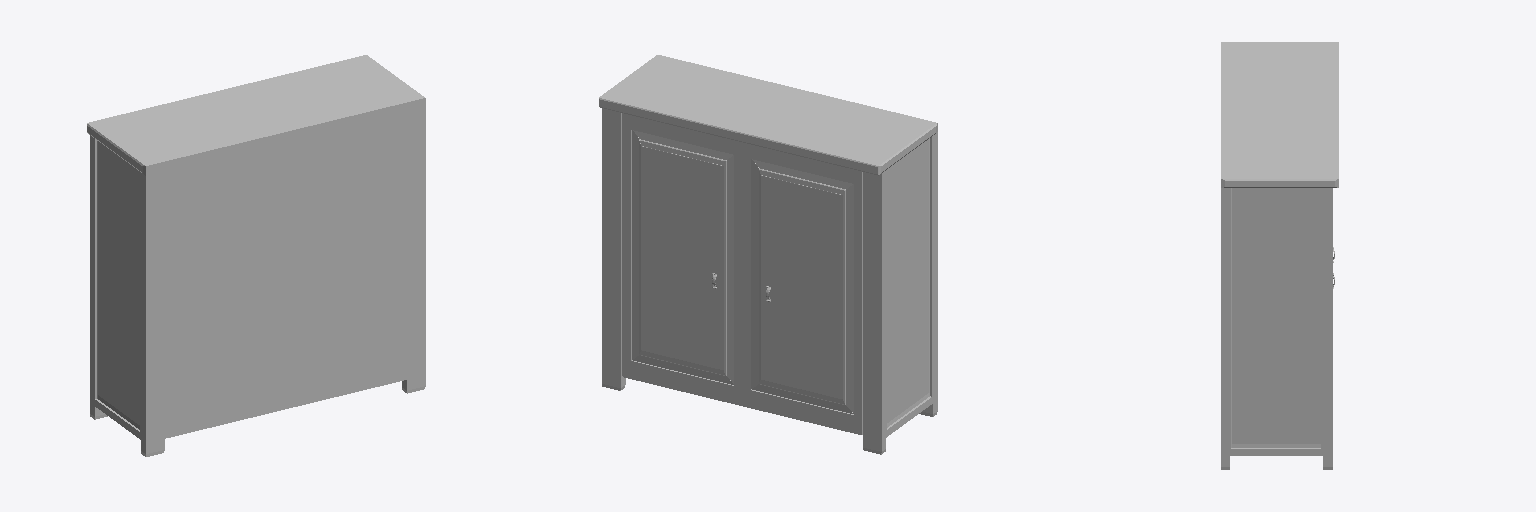
File: wardrobe.obj
3 views of the same model, side by side, from view 1: azimuth 30°, elevation 25°; view 2: azimuth 150°, elevation 25°; view 3: azimuth 270°, elevation 25° (orthographic).
Parts seen in each view (by area): view 1: Cube.003; view 2: Cube.003; view 3: Cube.003.
Boxes of the visible parts, x1,y1,x2,y2 form: Cube.003: [87, 55, 425, 456]; Cube.003: [599, 55, 937, 454]; Cube.003: [1221, 42, 1338, 469].
Bounding box in the file's own units: 1.96 × 1.94 × 0.7161.